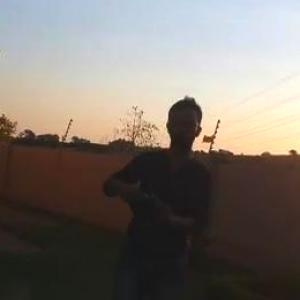follow: (102, 90, 228, 299)
